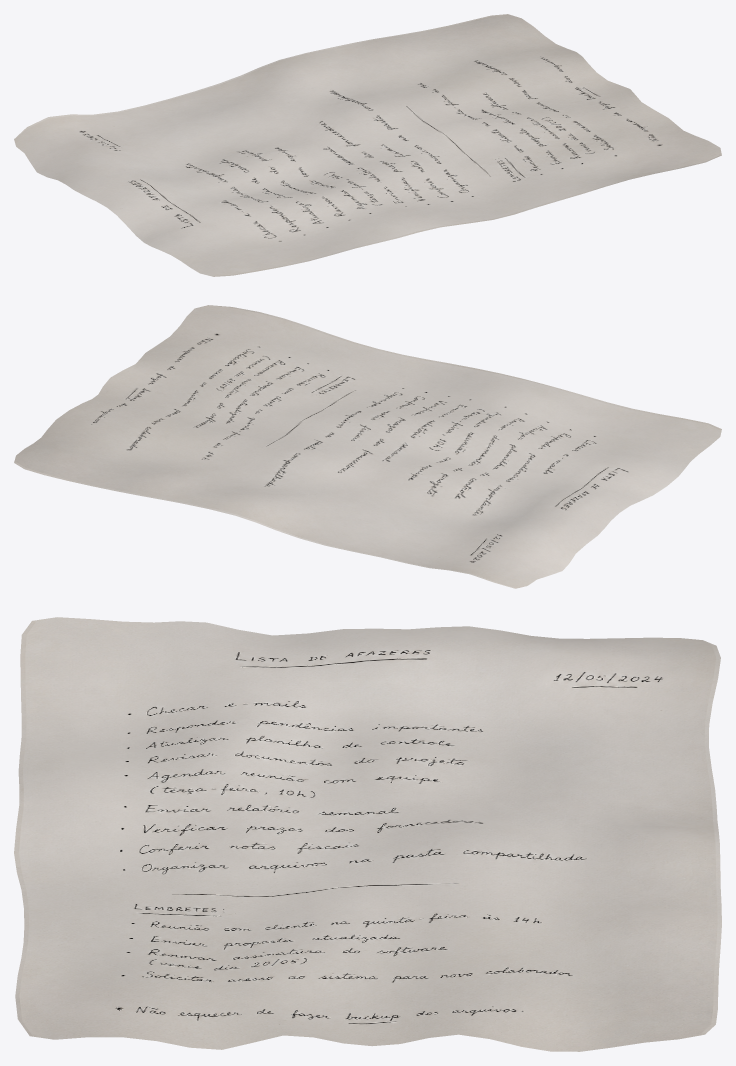
Rendered from Papel.fbx.
The picture shows the model from 3 angles, top to bottom: view 1: azimuth 30°, elevation 25°; view 2: azimuth 150°, elevation 25°; view 3: azimuth 270°, elevation 25°; orthographic projection. The views are drawn at different scales.
Parts seen in each view (by area): view 1: Papel; view 2: Papel; view 3: Papel.
Part boxes in pixels (x1,y1,x2,y2): Papel: (14,14,721,276); Papel: (14,305,721,588); Papel: (14,617,721,1051).
Bounding box in the file's own units: 203 × 6.68 × 143.
Materials: 1 (1 with a texture image).
